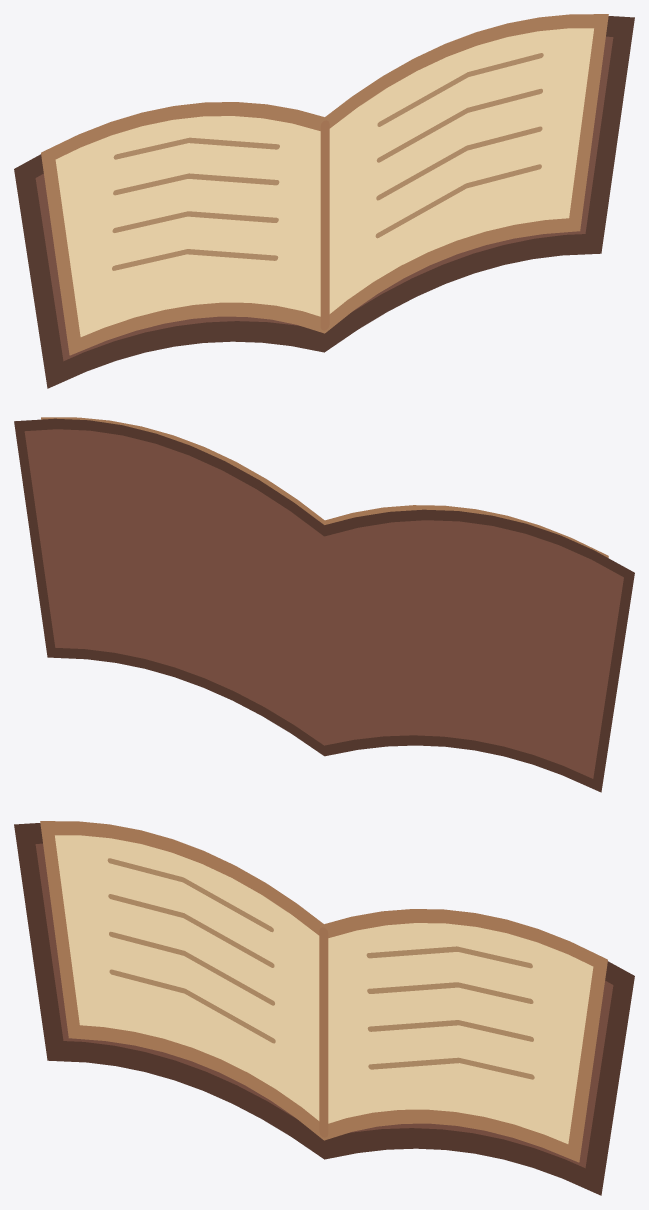
Rendered from carte-deschisa.glb.
3 views of the same model, one above another, from view 1: azimuth 30°, elevation 25°; view 2: azimuth 150°, elevation 25°; view 3: azimuth 330°, elevation 25° (orthographic).
Visible parts, largest first — view 1: Carte de rugăciuni deschisă; view 2: Carte de rugăciuni deschisă; view 3: Carte de rugăciuni deschisă.
Boxes of the visible parts, x1=… form: Carte de rugăciuni deschisă: x1=14, y1=14, x2=634, y2=388; Carte de rugăciuni deschisă: x1=14, y1=417, x2=634, y2=792; Carte de rugăciuni deschisă: x1=14, y1=821, x2=634, y2=1195.
Size of the model in its own units: 1.62 by 0.7086 by 0.0253.
